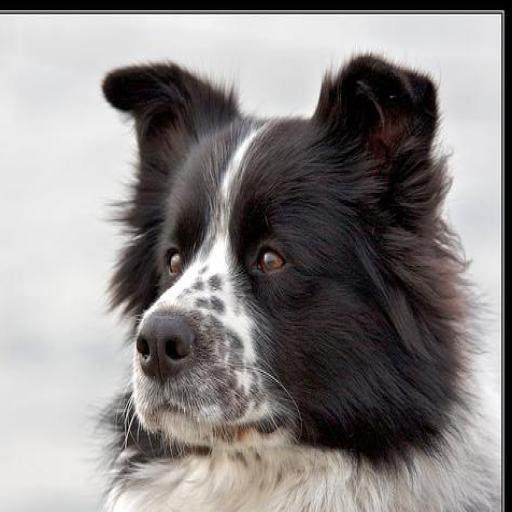dog_face: (101, 50, 446, 453)
